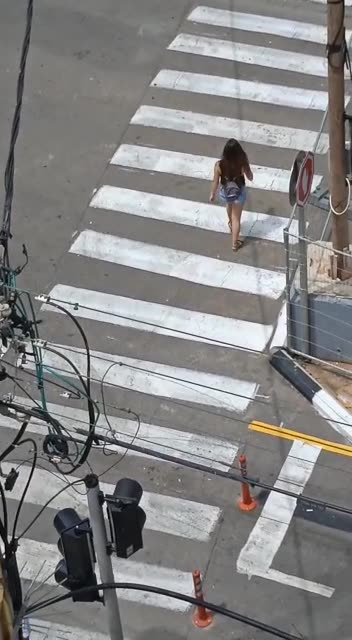crosswalk: (40, 4, 303, 589)
person: (203, 130, 265, 259)
